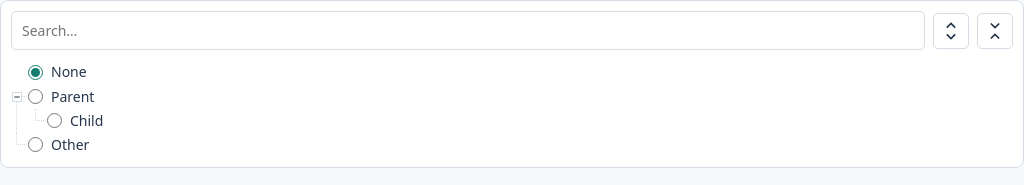
Test: keeps the no-option choice visible when there are no search matches
Step 1. Type "missing" into the search field → (468, 30), box [11,11,925,50]
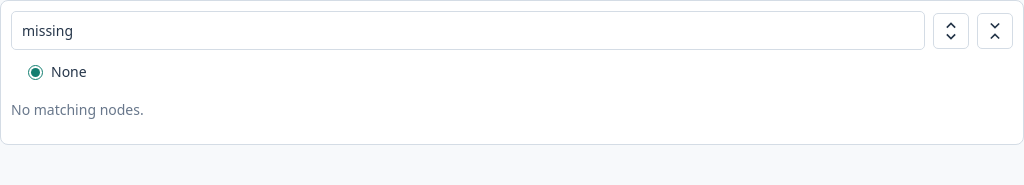
Expected: the radio button labelled "None" is checked, [28,64,43,80]
Expected: the message reads "No matching nodes.", [11,100,144,118]
Expected: the number of radio buttons is 1, [28,64,43,80]
